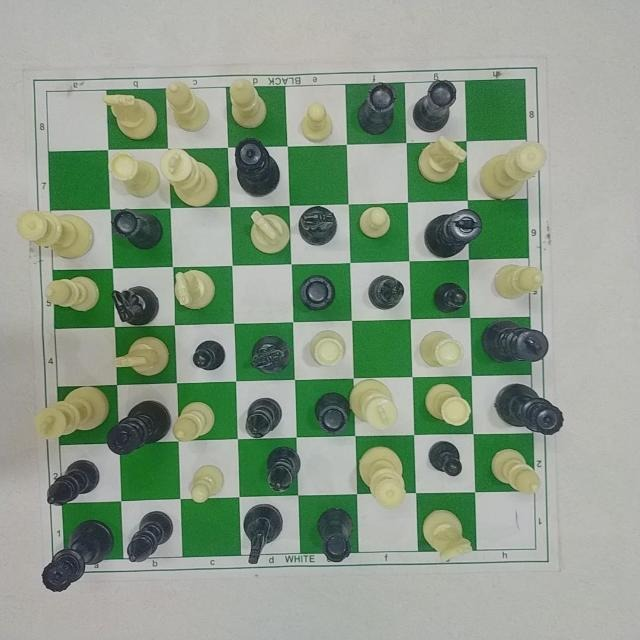black-bishop: (44, 458, 102, 506), (125, 508, 175, 563), (264, 444, 301, 494), (244, 395, 284, 440), (366, 272, 406, 311)
black-king: (104, 398, 172, 456), (479, 317, 550, 366), (421, 206, 485, 260)
black-knight: (241, 502, 285, 566), (109, 284, 161, 327), (296, 204, 338, 248), (250, 334, 292, 376)
black-pawn: (427, 438, 463, 477), (432, 280, 470, 315), (191, 338, 227, 372)
black-queen: (38, 517, 117, 595), (492, 382, 566, 438), (233, 136, 281, 198)
black-rook: (410, 77, 459, 133), (109, 206, 165, 251), (356, 81, 398, 137), (315, 506, 354, 564), (313, 391, 351, 435), (298, 273, 336, 313)
white-bishop: (164, 78, 212, 133), (489, 446, 541, 495), (43, 274, 102, 313), (227, 76, 269, 129), (491, 262, 546, 301), (170, 400, 217, 444)
white-king: (31, 384, 111, 442), (158, 147, 220, 209), (347, 377, 399, 432)
white-knight: (420, 508, 475, 562), (100, 92, 158, 141), (110, 334, 171, 378), (415, 135, 468, 185), (247, 208, 292, 256), (171, 268, 217, 311)
white-pawn: (187, 463, 227, 505), (298, 102, 334, 144), (357, 205, 393, 241)
white-queen: (477, 138, 549, 203), (15, 207, 96, 261), (356, 444, 408, 511)
white-rook: (107, 150, 162, 200), (423, 381, 473, 428), (416, 328, 465, 369), (307, 327, 348, 369)
